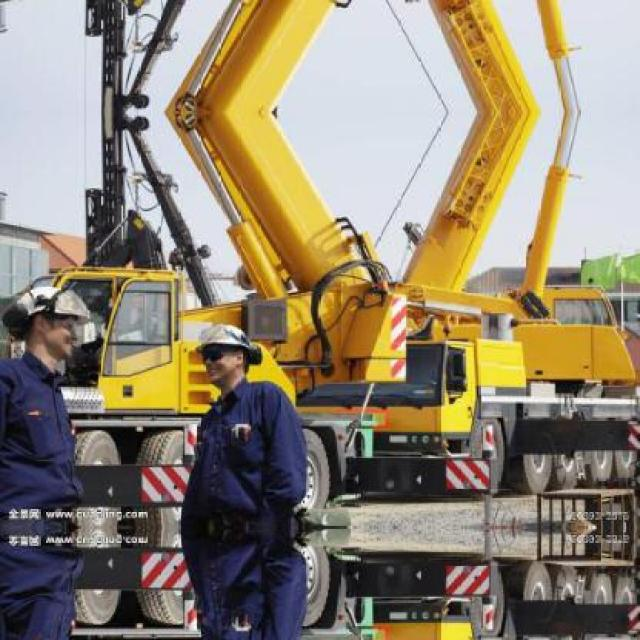helmet: (11, 284, 88, 359), (191, 322, 258, 389)
